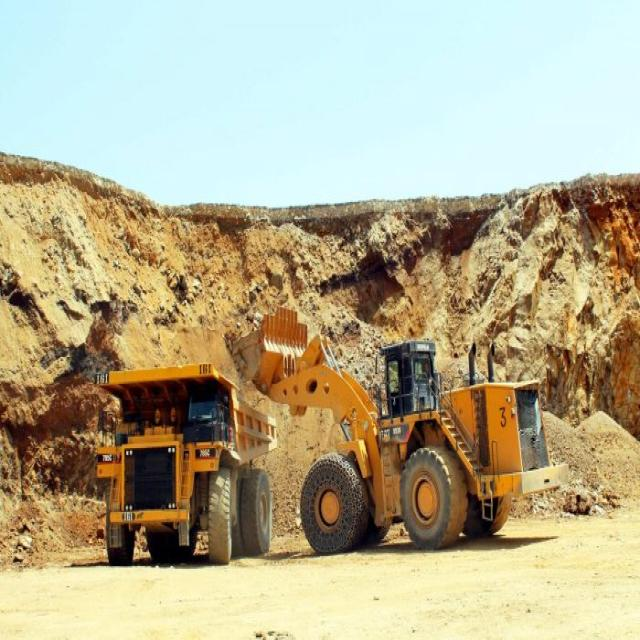buldozerpayloadergrader: (221, 300, 576, 560)
dump_truck: (92, 352, 277, 580)
